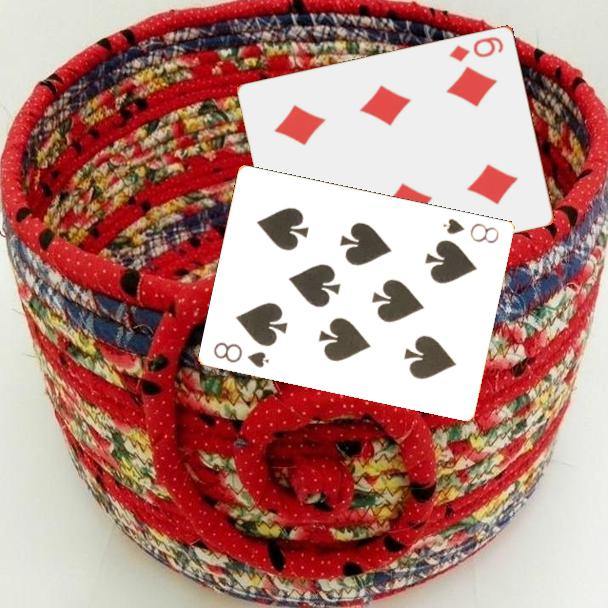d06: (446, 33, 506, 64)
s08: (210, 338, 272, 370), (440, 215, 502, 246)
